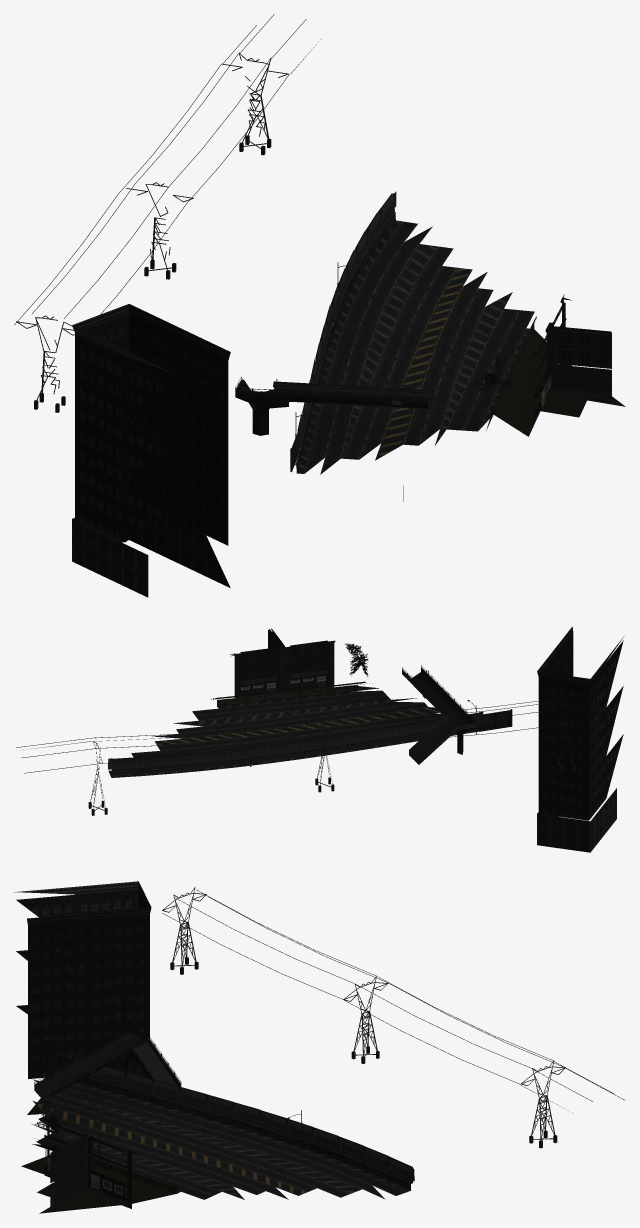
The model's file is cell_4_-4.gltf.
3 views of the same model, one above another, from view 1: azimuth 30°, elevation 25°; view 2: azimuth 150°, elevation 25°; view 3: azimuth 270°, elevation 25° (orthographic). The views are drawn at different scales.
Parts seen in each view (by area): view 1: cell_4_-4; view 2: cell_4_-4; view 3: cell_4_-4.
Boxes of the visible parts, x1,y1,x2,y2 form: cell_4_-4: [14, 14, 625, 597]; cell_4_-4: [16, 626, 623, 852]; cell_4_-4: [14, 881, 625, 1213].
Size of the model in its own units: 155 by 65.62 by 185.
33 materials, 33 textured.
